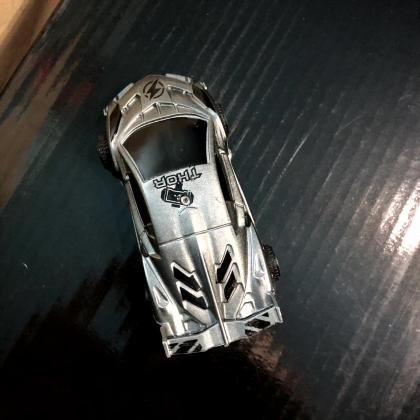Car: (102, 74, 283, 359)
